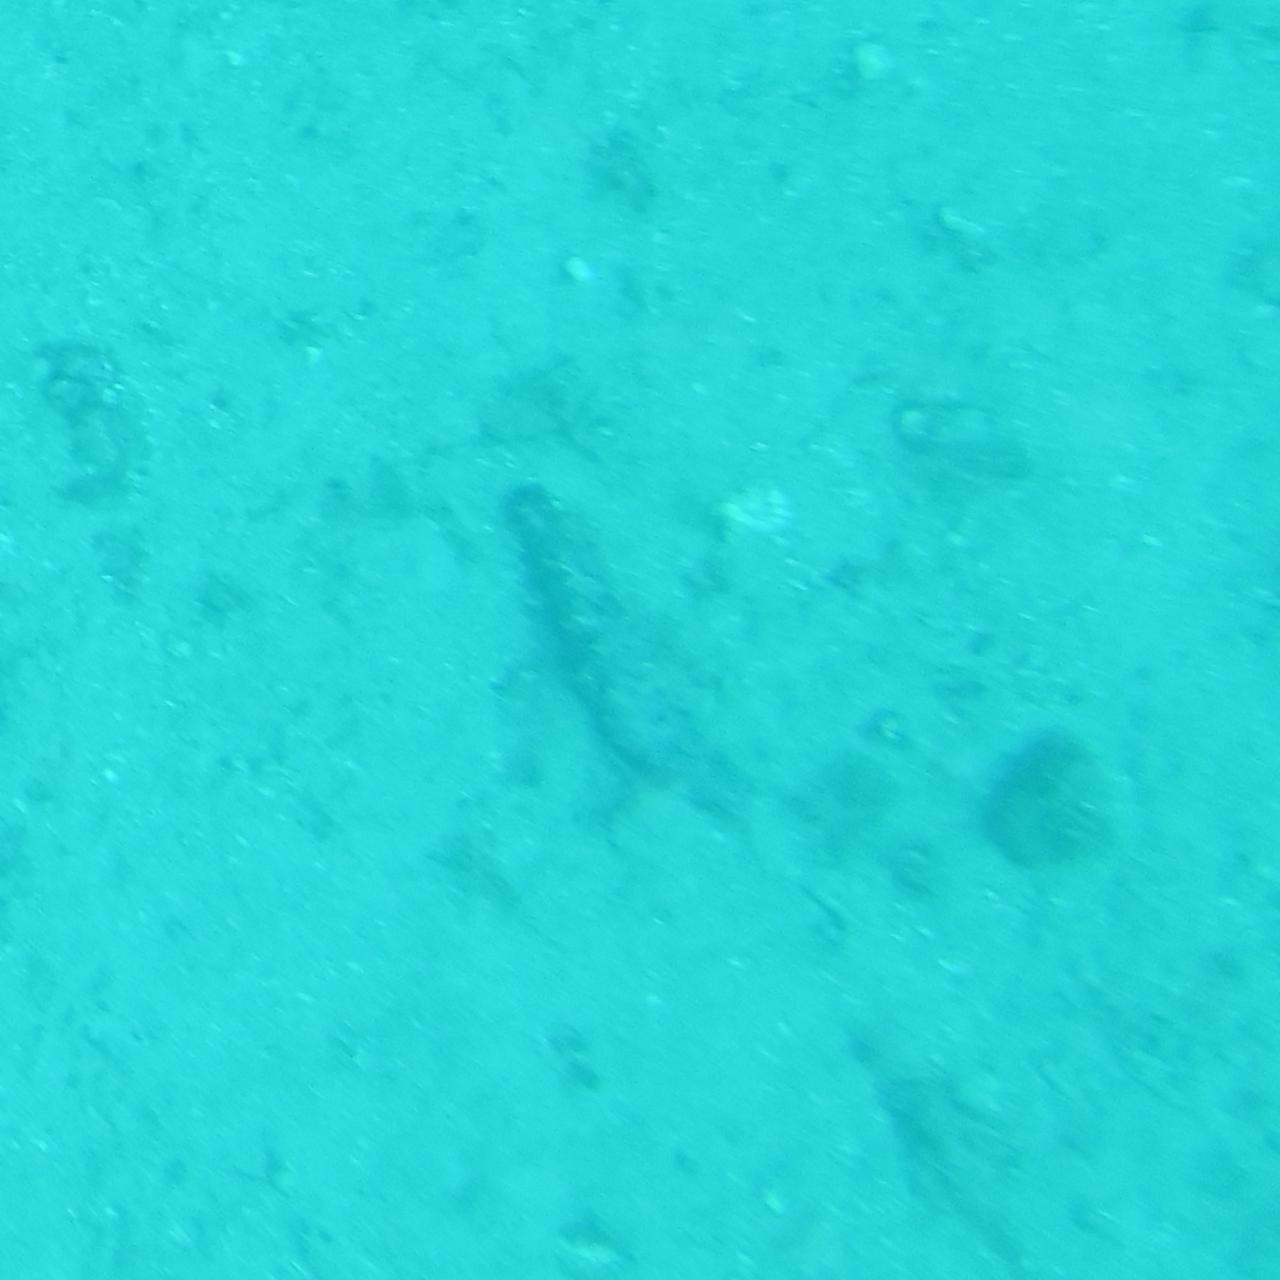Holothuria tubulosa: (503, 461, 777, 819)
